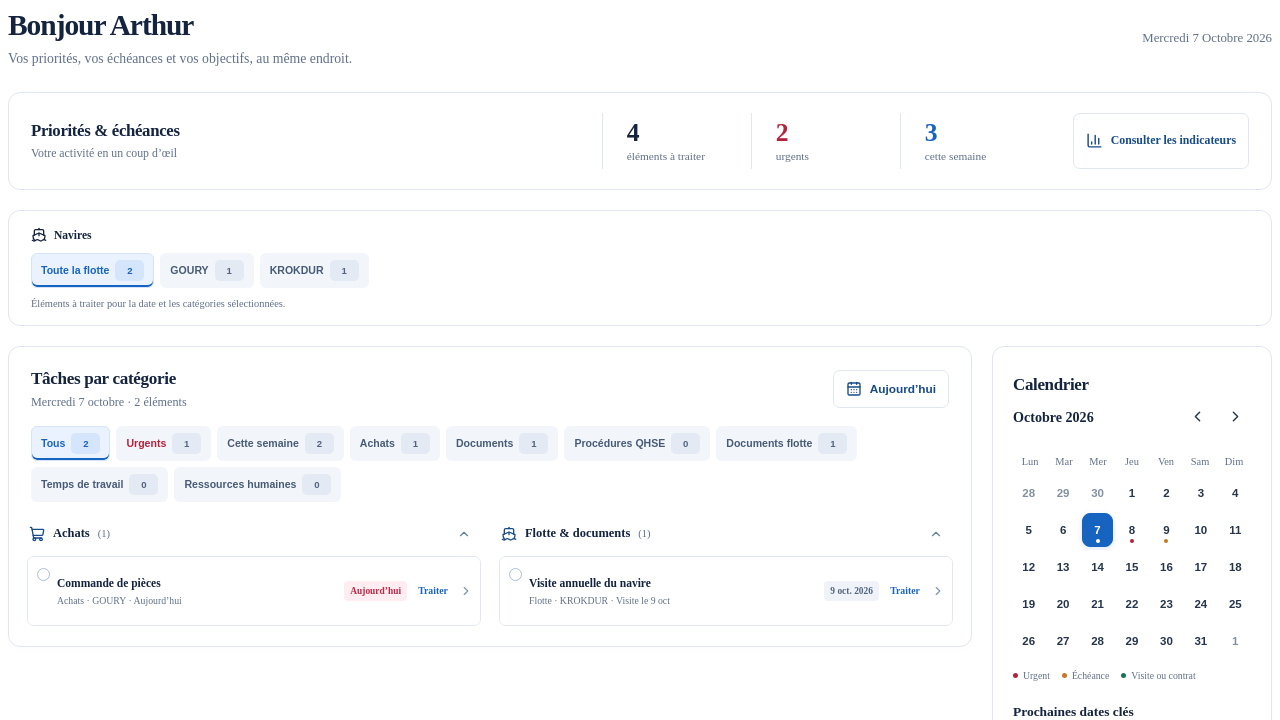
Test case: home calendar and task interactions › updates the task list and filter counts for the selected date
expect the link "Commande de pièces" is shown: met, box [28,557,480,625]
expect the button "Urgents 1" is shown: met, box [116,426,211,461]
Click the button named "9 Octobre 2026, 1 échéance".
click(1166, 530)  # box [1151,513,1182,547]
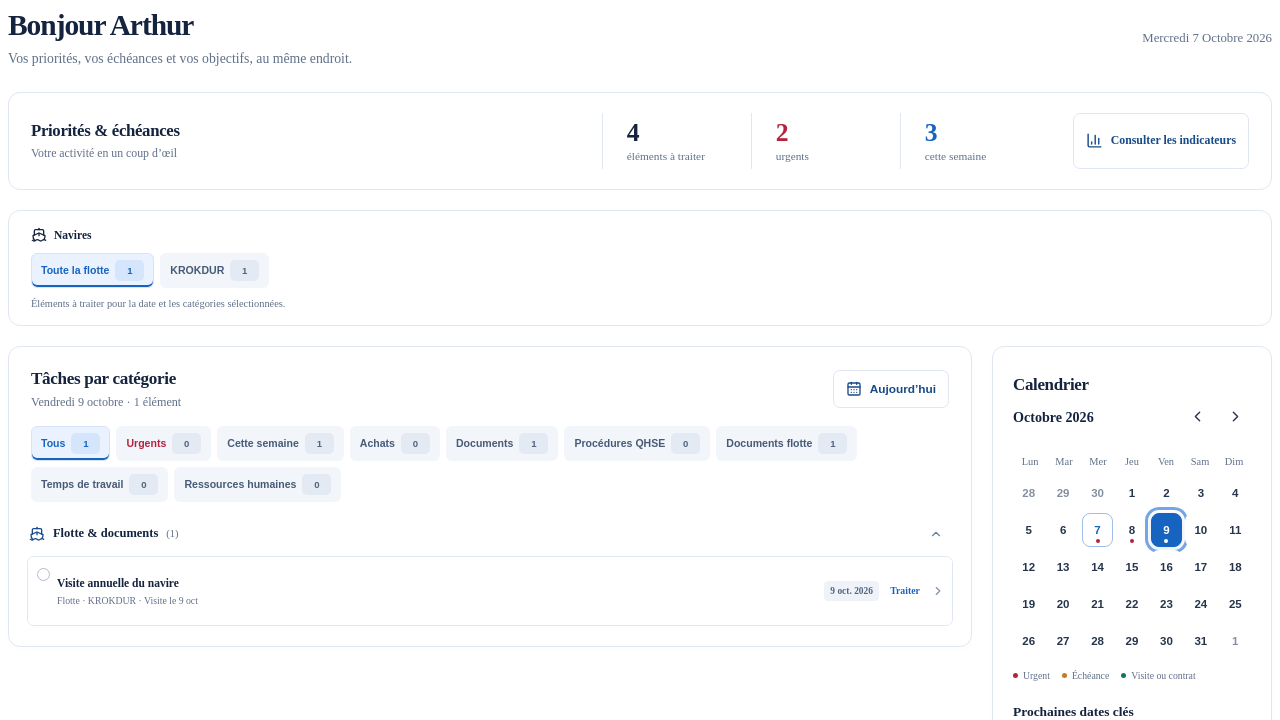
expect the text "Vendredi 9 octobre · 1 élément" is shown: met, box [31,395,181,410]
expect the button "Tous 1" is shown: met, box [31,426,110,461]
expect the button "Urgents 0" is shown: met
Click the button "Urgents 0".
click(164, 444)  # box [116,426,211,461]
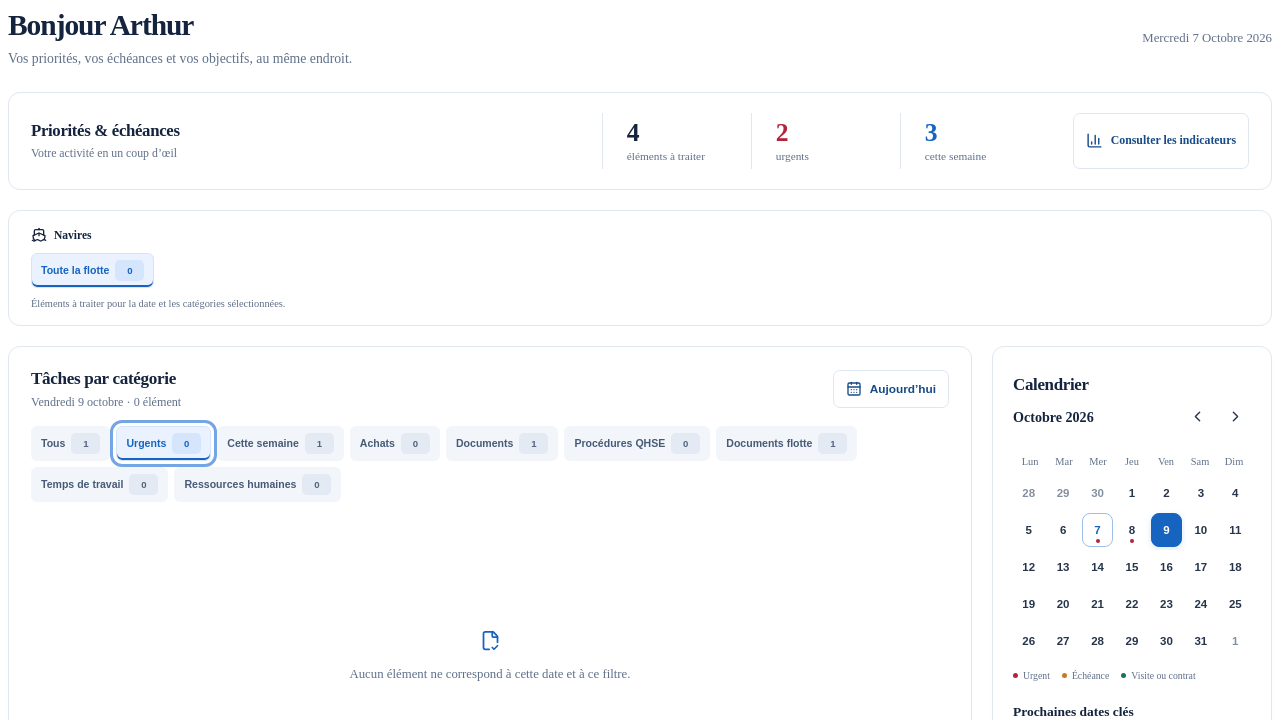
expect the button "Tous 1" is shown: met, box [31,426,110,461]
expect the text "Aucun élément ne correspond à cette date et à ce filtre." is shown: met, box [350,630,630,681]
